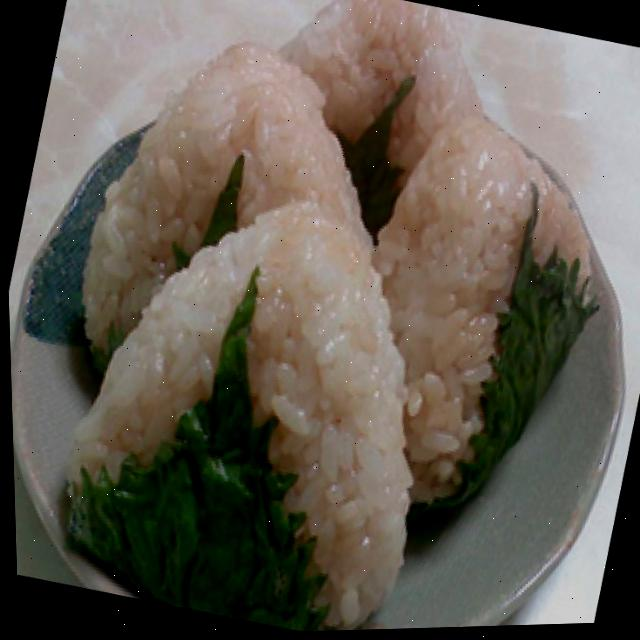米饭主食: (17, 156, 476, 640), (309, 87, 633, 544), (58, 4, 407, 413), (228, 0, 509, 266)
